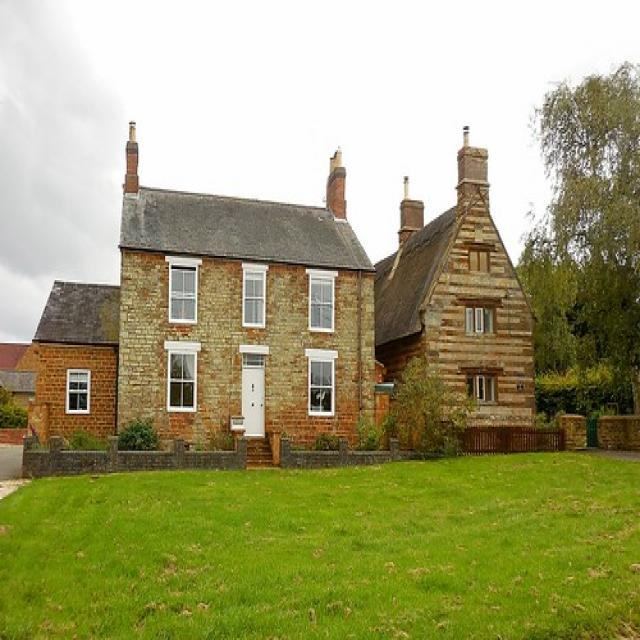Normal_building: (119, 145, 381, 458), (382, 158, 546, 456), (28, 273, 117, 462)
